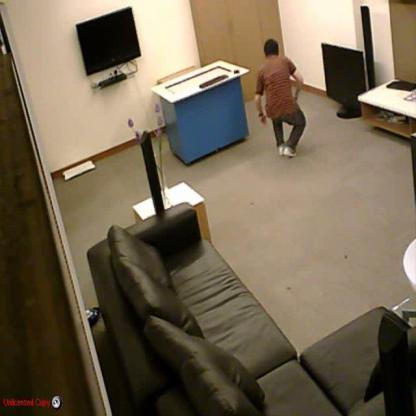Person: (255, 38, 305, 158)
